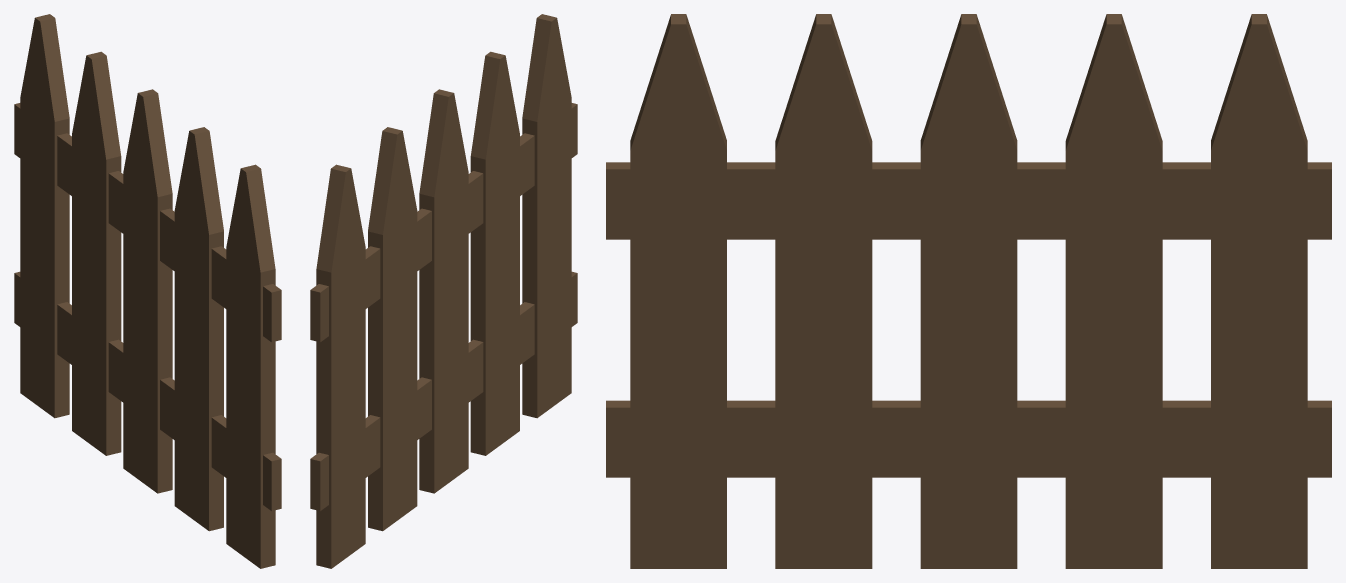
Rendered from fence.fbx.
3 views of the same model, side by side, from view 1: azimuth 30°, elevation 25°; view 2: azimuth 150°, elevation 25°; view 3: azimuth 270°, elevation 25° (orthographic). The views are drawn at different scales.
Visible parts, largest first — view 1: Picket Fence, Support 2, Support 1; view 2: Picket Fence, Support 2, Support 1; view 3: Picket Fence, Support 1, Support 2.
Part boxes in pixels (left/top/right/bottom): Picket Fence: left=20, top=14, right=275, bottom=568; Support 2: left=14, top=271, right=281, bottom=510; Support 1: left=14, top=103, right=281, bottom=342; Picket Fence: left=316, top=14, right=571, bottom=568; Support 2: left=310, top=271, right=577, bottom=510; Support 1: left=310, top=103, right=577, bottom=342; Picket Fence: left=630, top=14, right=1307, bottom=568; Support 1: left=606, top=162, right=1331, bottom=239; Support 2: left=606, top=400, right=1331, bottom=477.
Size of the model in its own units: 6.74 by 166 by 200.
